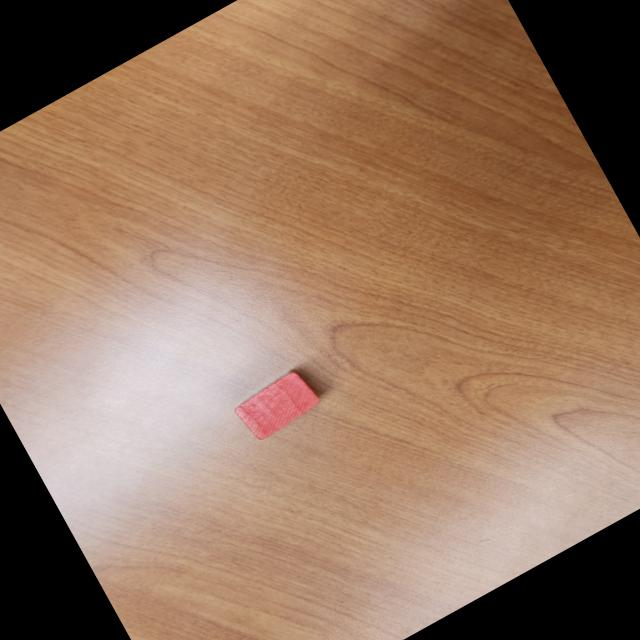red: (229, 362, 328, 446)
